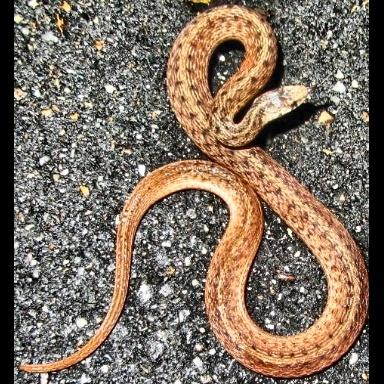snake: (19, 6, 367, 380)
